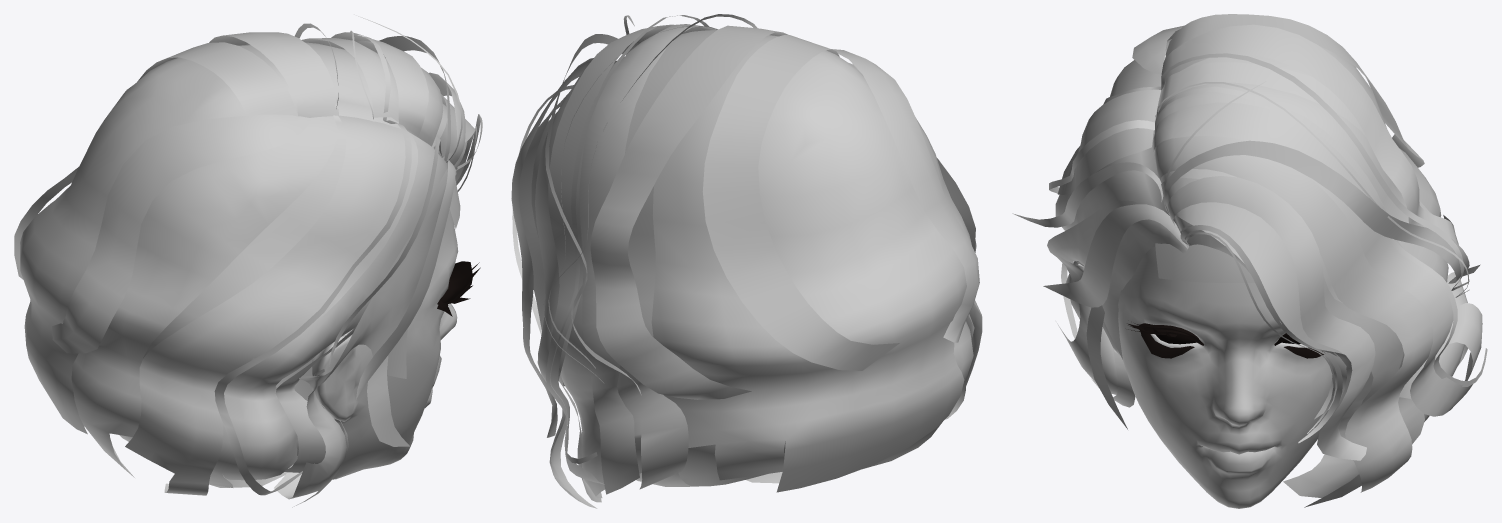
The model's file is girl_head_01.fbx.
The picture shows the model from 3 angles, left to right: view 1: azimuth 30°, elevation 25°; view 2: azimuth 150°, elevation 25°; view 3: azimuth 270°, elevation 25°; orthographic projection. The views are drawn at different scales.
Parts seen in each view (by area): view 1: Mesh_0350, Mesh_0333, Mesh_0346; view 2: Mesh_0350; view 3: Mesh_0350, Mesh_0333, Mesh_0346.
Boxes of the visible parts, <box> form: Mesh_0350: <box>14,14,482,507</box>; Mesh_0333: <box>311,209,458,479</box>; Mesh_0346: <box>437,261,480,316</box>; Mesh_0350: <box>511,14,982,508</box>; Mesh_0350: <box>1012,14,1487,507</box>; Mesh_0333: <box>1084,247,1346,508</box>; Mesh_0346: <box>1127,323,1324,358</box>.
Bounding box in the file's own units: 1581 × 1585 × 1612.
